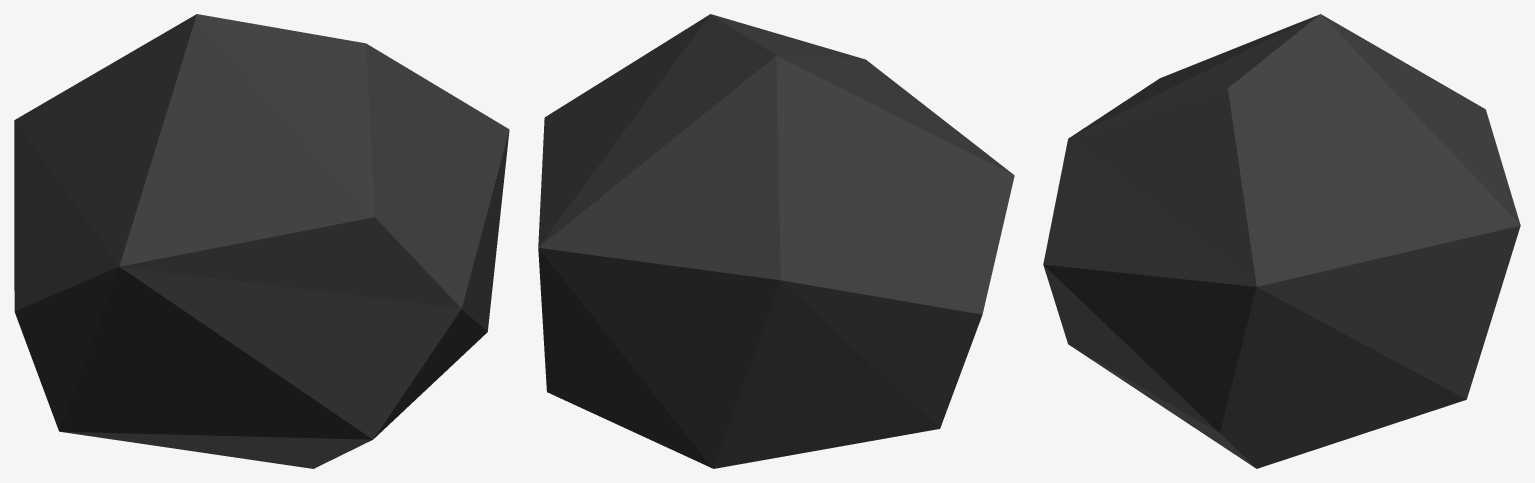
Rendered from Ball_Meteor.fbx.
3 renders of one model, left to right at view 1: azimuth 30°, elevation 25°; view 2: azimuth 150°, elevation 25°; view 3: azimuth 270°, elevation 25°, orthographic. The views are drawn at different scales.
Parts seen in each view (by area): view 1: Rock_02; view 2: Rock_02; view 3: Rock_02.
Part boxes in pixels (<box>): Rock_02: <box>14,14,509,468</box>; Rock_02: <box>538,14,1014,468</box>; Rock_02: <box>1043,14,1520,468</box>.
Bounding box in the file's own units: 185 × 166 × 172.
